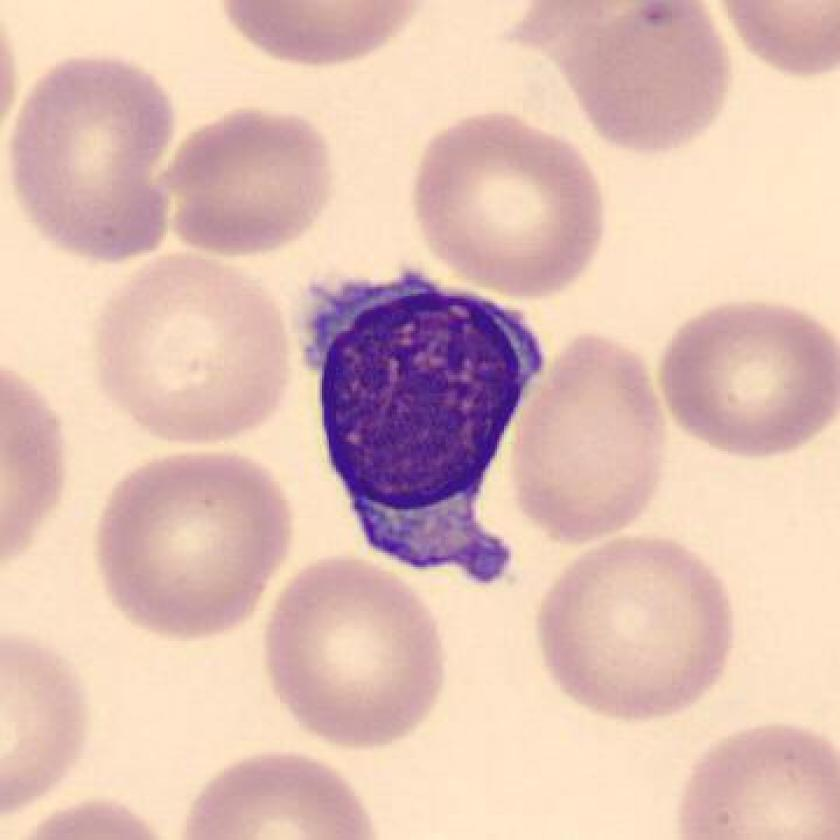lymphocyte: (291, 256, 557, 589)
